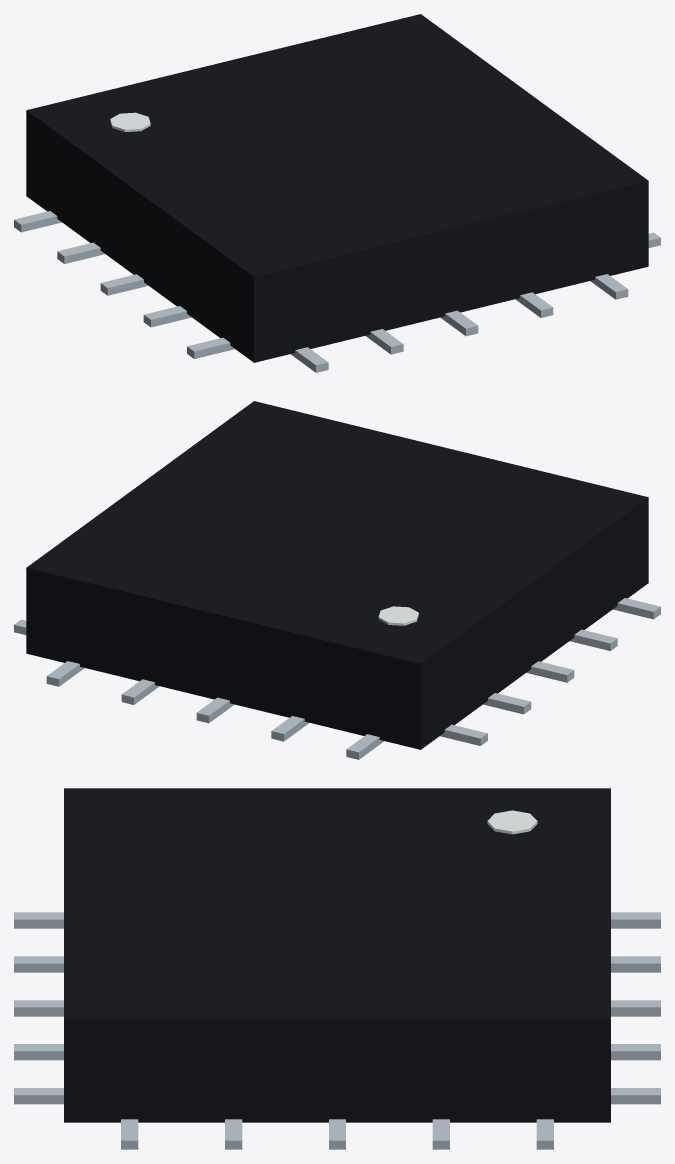
Rendered from 007_L107_U7_RecoverySPIFlash.fbx.
3 views of the same model, one above another, from view 1: azimuth 30°, elevation 25°; view 2: azimuth 150°, elevation 25°; view 3: azimuth 270°, elevation 25° (orthographic). The views are drawn at different scales.
Parts seen in each view (by area): view 1: 007_L106_IC4_000, 007_L106_IC4_021, 007_L106_IC4_009, 007_L106_IC4_005, 007_L106_IC4_013, 007_L106_IC4_001, 007_L106_IC4_017, 007_L106_IC4_006, 007_L106_IC4_018, 007_L106_IC4_014, 007_L106_IC4_002, 007_L106_IC4_010; view 2: 007_L106_IC4_000, 007_L106_IC4_021, 007_L106_IC4_009, 007_L106_IC4_013, 007_L106_IC4_005, 007_L106_IC4_001, 007_L106_IC4_017, 007_L106_IC4_008, 007_L106_IC4_020, 007_L106_IC4_016, 007_L106_IC4_004, 007_L106_IC4_012; view 3: 007_L106_IC4_000, 007_L106_IC4_021, 007_L106_IC4_002, 007_L106_IC4_004, 007_L106_IC4_006, 007_L106_IC4_008, 007_L106_IC4_010, 007_L106_IC4_012, 007_L106_IC4_014, 007_L106_IC4_016, 007_L106_IC4_018, 007_L106_IC4_020 (+5 smaller).
Boxes of the visible parts, x1,y1,x2,y2 form: 007_L106_IC4_000: (26,14,648,362); 007_L106_IC4_021: (110,112,150,131); 007_L106_IC4_009: (100,274,148,295); 007_L106_IC4_005: (143,306,191,327); 007_L106_IC4_013: (57,242,105,263); 007_L106_IC4_001: (187,337,234,358); 007_L106_IC4_017: (14,211,61,232); 007_L106_IC4_006: (365,329,403,354); 007_L106_IC4_018: (590,274,628,299); 007_L106_IC4_014: (515,292,553,317); 007_L106_IC4_002: (290,347,328,372); 007_L106_IC4_010: (440,310,478,336); 007_L106_IC4_000: (26,401,648,749); 007_L106_IC4_021: (378,606,418,625); 007_L106_IC4_009: (526,661,574,682); 007_L106_IC4_013: (483,693,531,714); 007_L106_IC4_005: (569,629,617,650); 007_L106_IC4_001: (613,598,660,619); 007_L106_IC4_017: (440,724,487,745); 007_L106_IC4_008: (271,716,309,741); 007_L106_IC4_020: (46,661,84,686); 007_L106_IC4_016: (121,679,159,704); 007_L106_IC4_004: (346,734,384,759); 007_L106_IC4_012: (196,697,234,723); 007_L106_IC4_000: (64,788,610,1122); 007_L106_IC4_021: (487,810,537,834); 007_L106_IC4_002: (14,912,63,928); 007_L106_IC4_004: (611,912,660,928); 007_L106_IC4_006: (14,956,63,972); 007_L106_IC4_008: (611,956,660,972); 007_L106_IC4_010: (14,1000,63,1016); 007_L106_IC4_012: (611,1000,660,1016); 007_L106_IC4_014: (14,1044,63,1060); 007_L106_IC4_016: (611,1044,660,1060); 007_L106_IC4_018: (14,1088,63,1104); 007_L106_IC4_020: (611,1088,660,1104).
Size of the model in its own units: 0.0142 by 0.0142 by 0.00275.
